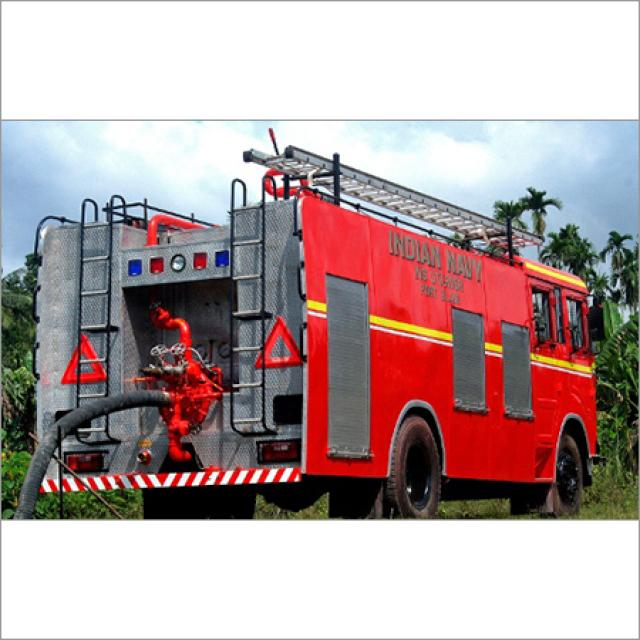emergency: (35, 148, 602, 518)
